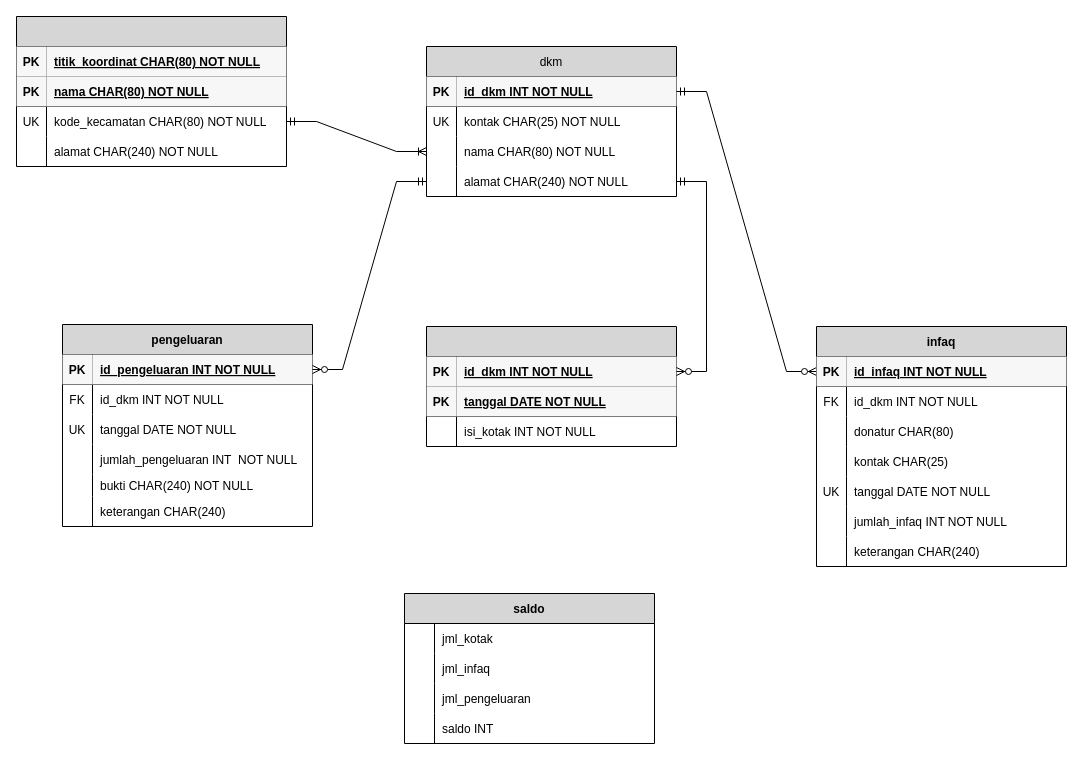
The diagram is 1083 pixels wide and 760 high, and some of its shapes have lost their labels. The shapes that lost their labels are listed below. From the top down, each one's box as (x1, y1, x2, y2) in pixels, then its label:
(16, 16, 286, 166): masjid
(426, 326, 676, 446): kotak_amal
